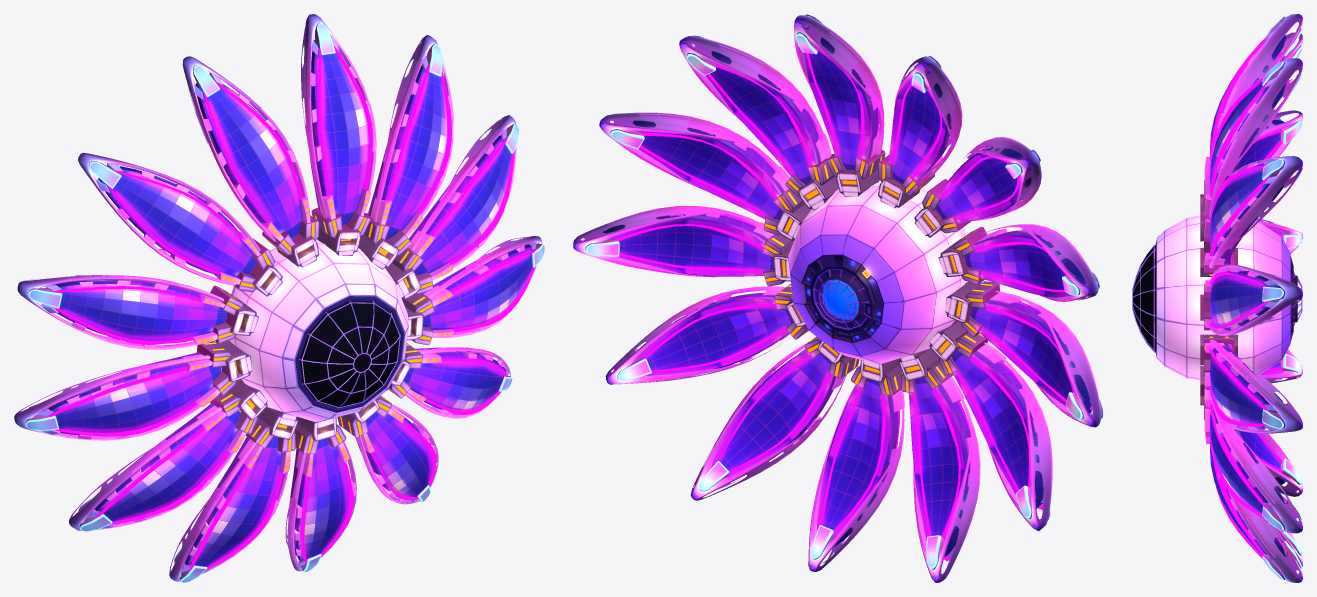
Rendered from DaisyClass_Exterior.glb.
3 views of the same model, side by side, from view 1: azimuth 30°, elevation 25°; view 2: azimuth 150°, elevation 25°; view 3: azimuth 270°, elevation 25° (orthographic). The views are drawn at different scales.
Visible parts, largest first — view 1: Petal, PetalFrame, PanelConnector, PureEM_Petal, Shell, Glass_Window, PureEM_PanelConnector, Wireframe, PureEM_PetalTip, Rim, PureEM_PetalCircles; view 2: Petal, PetalFrame, Shell, PanelConnector, PureEM_Petal, Engine Exterior, PureEM_PanelConnector, PureEM_PetalTip, PureEM_Engine; view 3: Petal, PetalFrame, Shell, PureEM_Petal, PanelConnector, Glass_Window, PureEM_PetalTip, Wireframe, Engine Exterior.
Boxes of the visible parts, bbox=[...] form: Petal: bbox=[25, 22, 544, 582]; PetalFrame: bbox=[14, 14, 542, 581]; PanelConnector: bbox=[196, 207, 435, 453]; PureEM_Petal: bbox=[46, 46, 535, 570]; Shell: bbox=[229, 239, 408, 422]; Glass_Window: bbox=[299, 300, 399, 407]; PureEM_PanelConnector: bbox=[204, 215, 432, 453]; Wireframe: bbox=[299, 300, 400, 408]; PureEM_PetalTip: bbox=[25, 22, 544, 582]; Rim: bbox=[295, 296, 404, 412]; PureEM_PetalCircles: bbox=[191, 193, 451, 474]; Petal: bbox=[583, 14, 1102, 569]; PetalFrame: bbox=[573, 15, 1101, 582]; Shell: bbox=[788, 180, 967, 364]; PanelConnector: bbox=[762, 150, 1000, 395]; PureEM_Petal: bbox=[615, 48, 1092, 561]; Engine Exterior: bbox=[801, 254, 883, 342]; PureEM_PanelConnector: bbox=[764, 156, 992, 394]; PureEM_PetalTip: bbox=[584, 14, 1103, 572]; PureEM_Engine: bbox=[822, 279, 858, 319]; Petal: bbox=[1204, 17, 1301, 579]; PetalFrame: bbox=[1209, 14, 1302, 582]; Shell: bbox=[1156, 215, 1297, 380]; PureEM_Petal: bbox=[1209, 34, 1291, 560]; PanelConnector: bbox=[1200, 179, 1237, 419]; Glass_Window: bbox=[1133, 245, 1155, 352]; PureEM_PetalTip: bbox=[1262, 16, 1302, 580]; Wireframe: bbox=[1132, 244, 1155, 352]; Engine Exterior: bbox=[1290, 256, 1302, 341].
Size of what is drawn, in the model's own units: 67.43 by 67.71 by 20.33.
10 materials, 5 textured.
